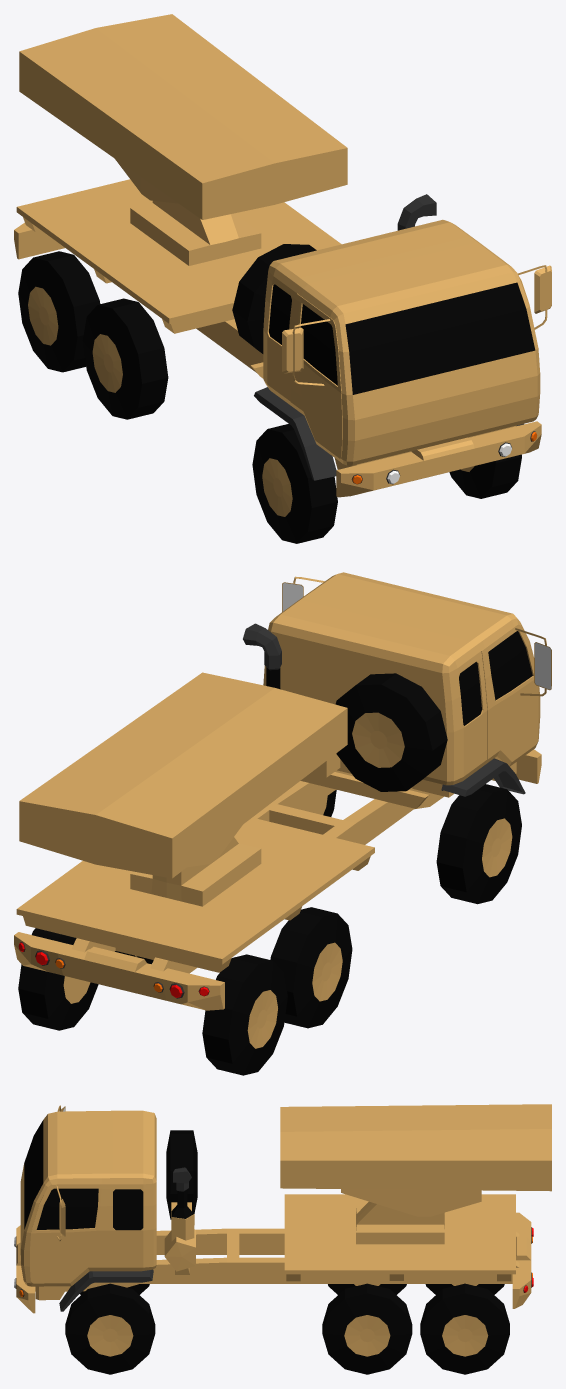
3 views of the same model, one above another, from view 1: azimuth 30°, elevation 25°; view 2: azimuth 150°, elevation 25°; view 3: azimuth 270°, elevation 25° (orthographic). The views are drawn at different scales.
Visible parts, largest first — view 1: Plane.029, Plane.012, Cylinder.024, Cylinder.028, Cylinder.026, Plane.030, Plane.013, Plane.028, Cylinder.029, Plane.034; view 2: Plane.029, Plane.012, Plane.028, Cylinder.026, Cylinder.028, Cylinder.024, Plane.030, Cylinder.025, Plane.013; view 3: Plane.029, Plane.012, Plane.034, Cylinder.027, Cylinder.029, Cylinder.025, Plane.028, Plane.013, Cylinder.024, Cylinder.028.
Part boxes in pixels (bbox=[...]): Plane.029: bbox=[14, 179, 541, 497]; Plane.012: bbox=[19, 14, 347, 219]; Cylinder.024: bbox=[82, 298, 168, 419]; Cylinder.028: bbox=[18, 251, 100, 372]; Cylinder.026: bbox=[252, 424, 337, 543]; Plane.030: bbox=[282, 293, 342, 458]; Plane.013: bbox=[130, 200, 261, 265]; Plane.028: bbox=[232, 194, 436, 378]; Cylinder.029: bbox=[449, 454, 521, 498]; Plane.034: bbox=[518, 265, 551, 330]; Plane.029: bbox=[14, 572, 541, 1010]; Plane.012: bbox=[19, 672, 347, 878]; Plane.028: bbox=[243, 623, 447, 808]; Cylinder.026: bbox=[436, 784, 521, 904]; Cylinder.028: bbox=[202, 954, 287, 1075]; Cylinder.024: bbox=[270, 907, 352, 1028]; Plane.030: bbox=[481, 624, 551, 761]; Cylinder.025: bbox=[18, 928, 98, 1030]; Plane.013: bbox=[130, 837, 261, 906]; Plane.029: bbox=[14, 1110, 533, 1313]; Plane.012: bbox=[280, 1104, 551, 1216]; Plane.034: bbox=[30, 1184, 107, 1283]; Cylinder.027: bbox=[322, 1283, 412, 1374]; Cylinder.029: bbox=[65, 1283, 155, 1374]; Cylinder.025: bbox=[420, 1283, 509, 1374]; Plane.028: bbox=[164, 1130, 197, 1274]; Plane.013: bbox=[356, 1201, 444, 1244]; Cylinder.024: bbox=[328, 1284, 406, 1294]; Cylinder.028: bbox=[425, 1284, 504, 1294].
Bounding box in the file's own units: 304 × 294 × 693.
